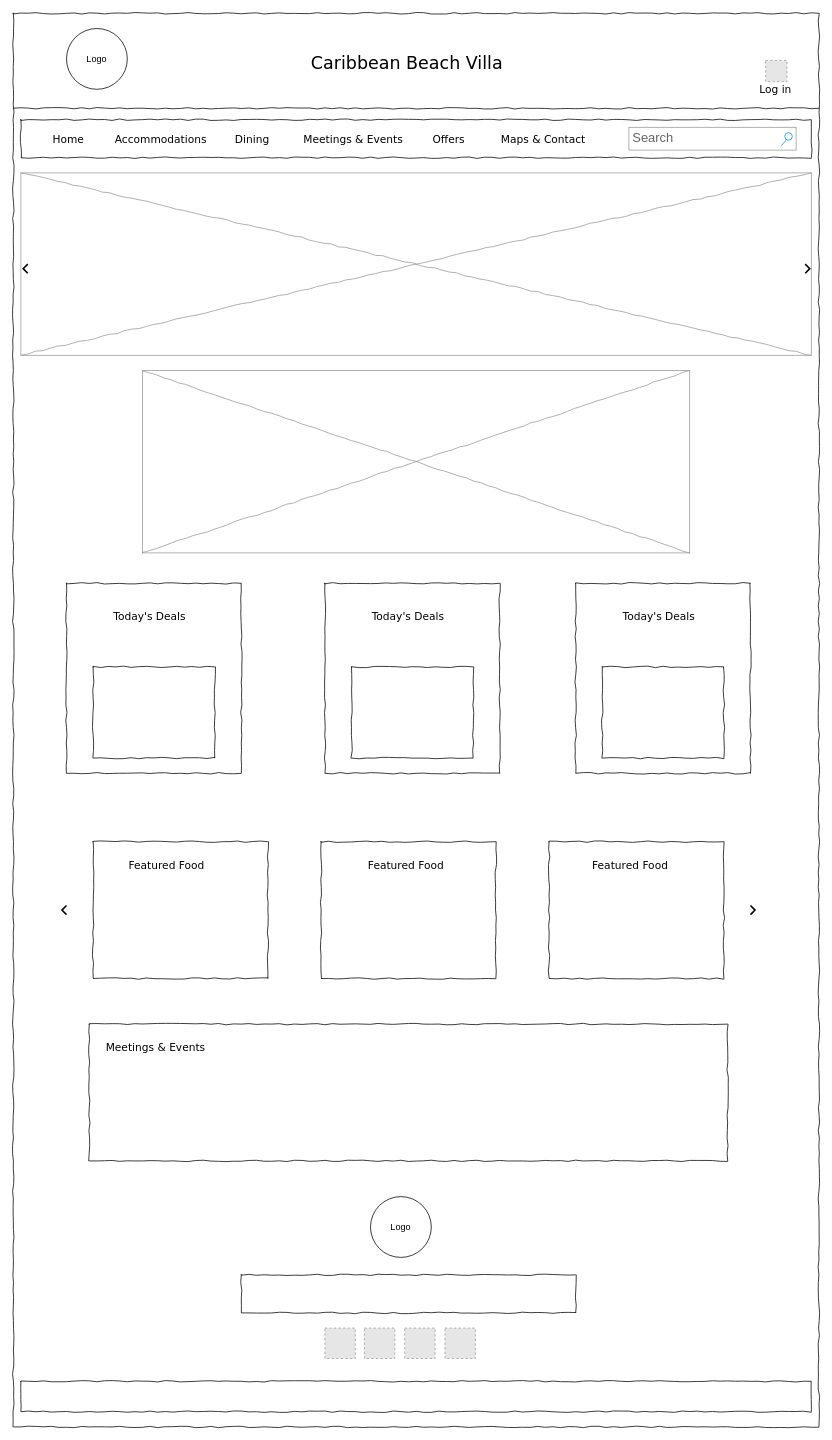
Image size: 832x1440. Some labels were removed from this diagram. Grey dashed boxes stand in for pictures. Here are the shapes that lost their labels. From the top down, the centre of each, then its label:
At pixel 415 263: "Slideshow".
At pixel 416 461: "About".
At pixel 408 1293: "Contact".
At pixel 415 1396: "Footer".
